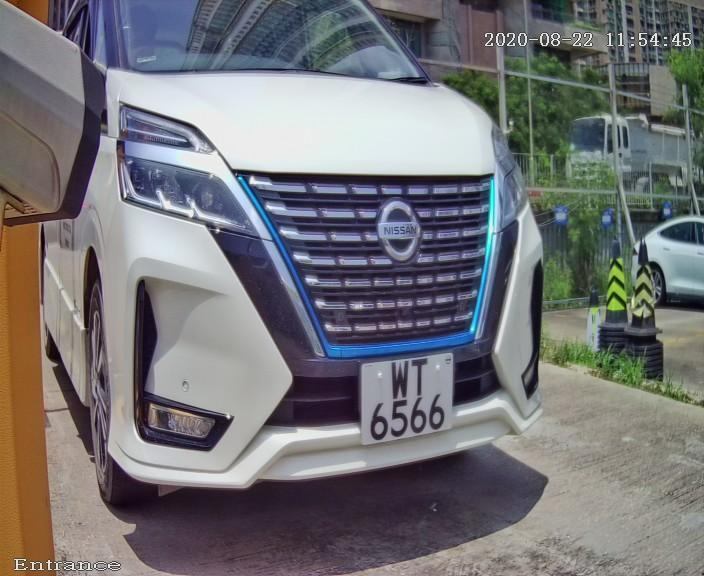Car: (35, 1, 582, 556)
License Plate: (322, 325, 488, 459)
